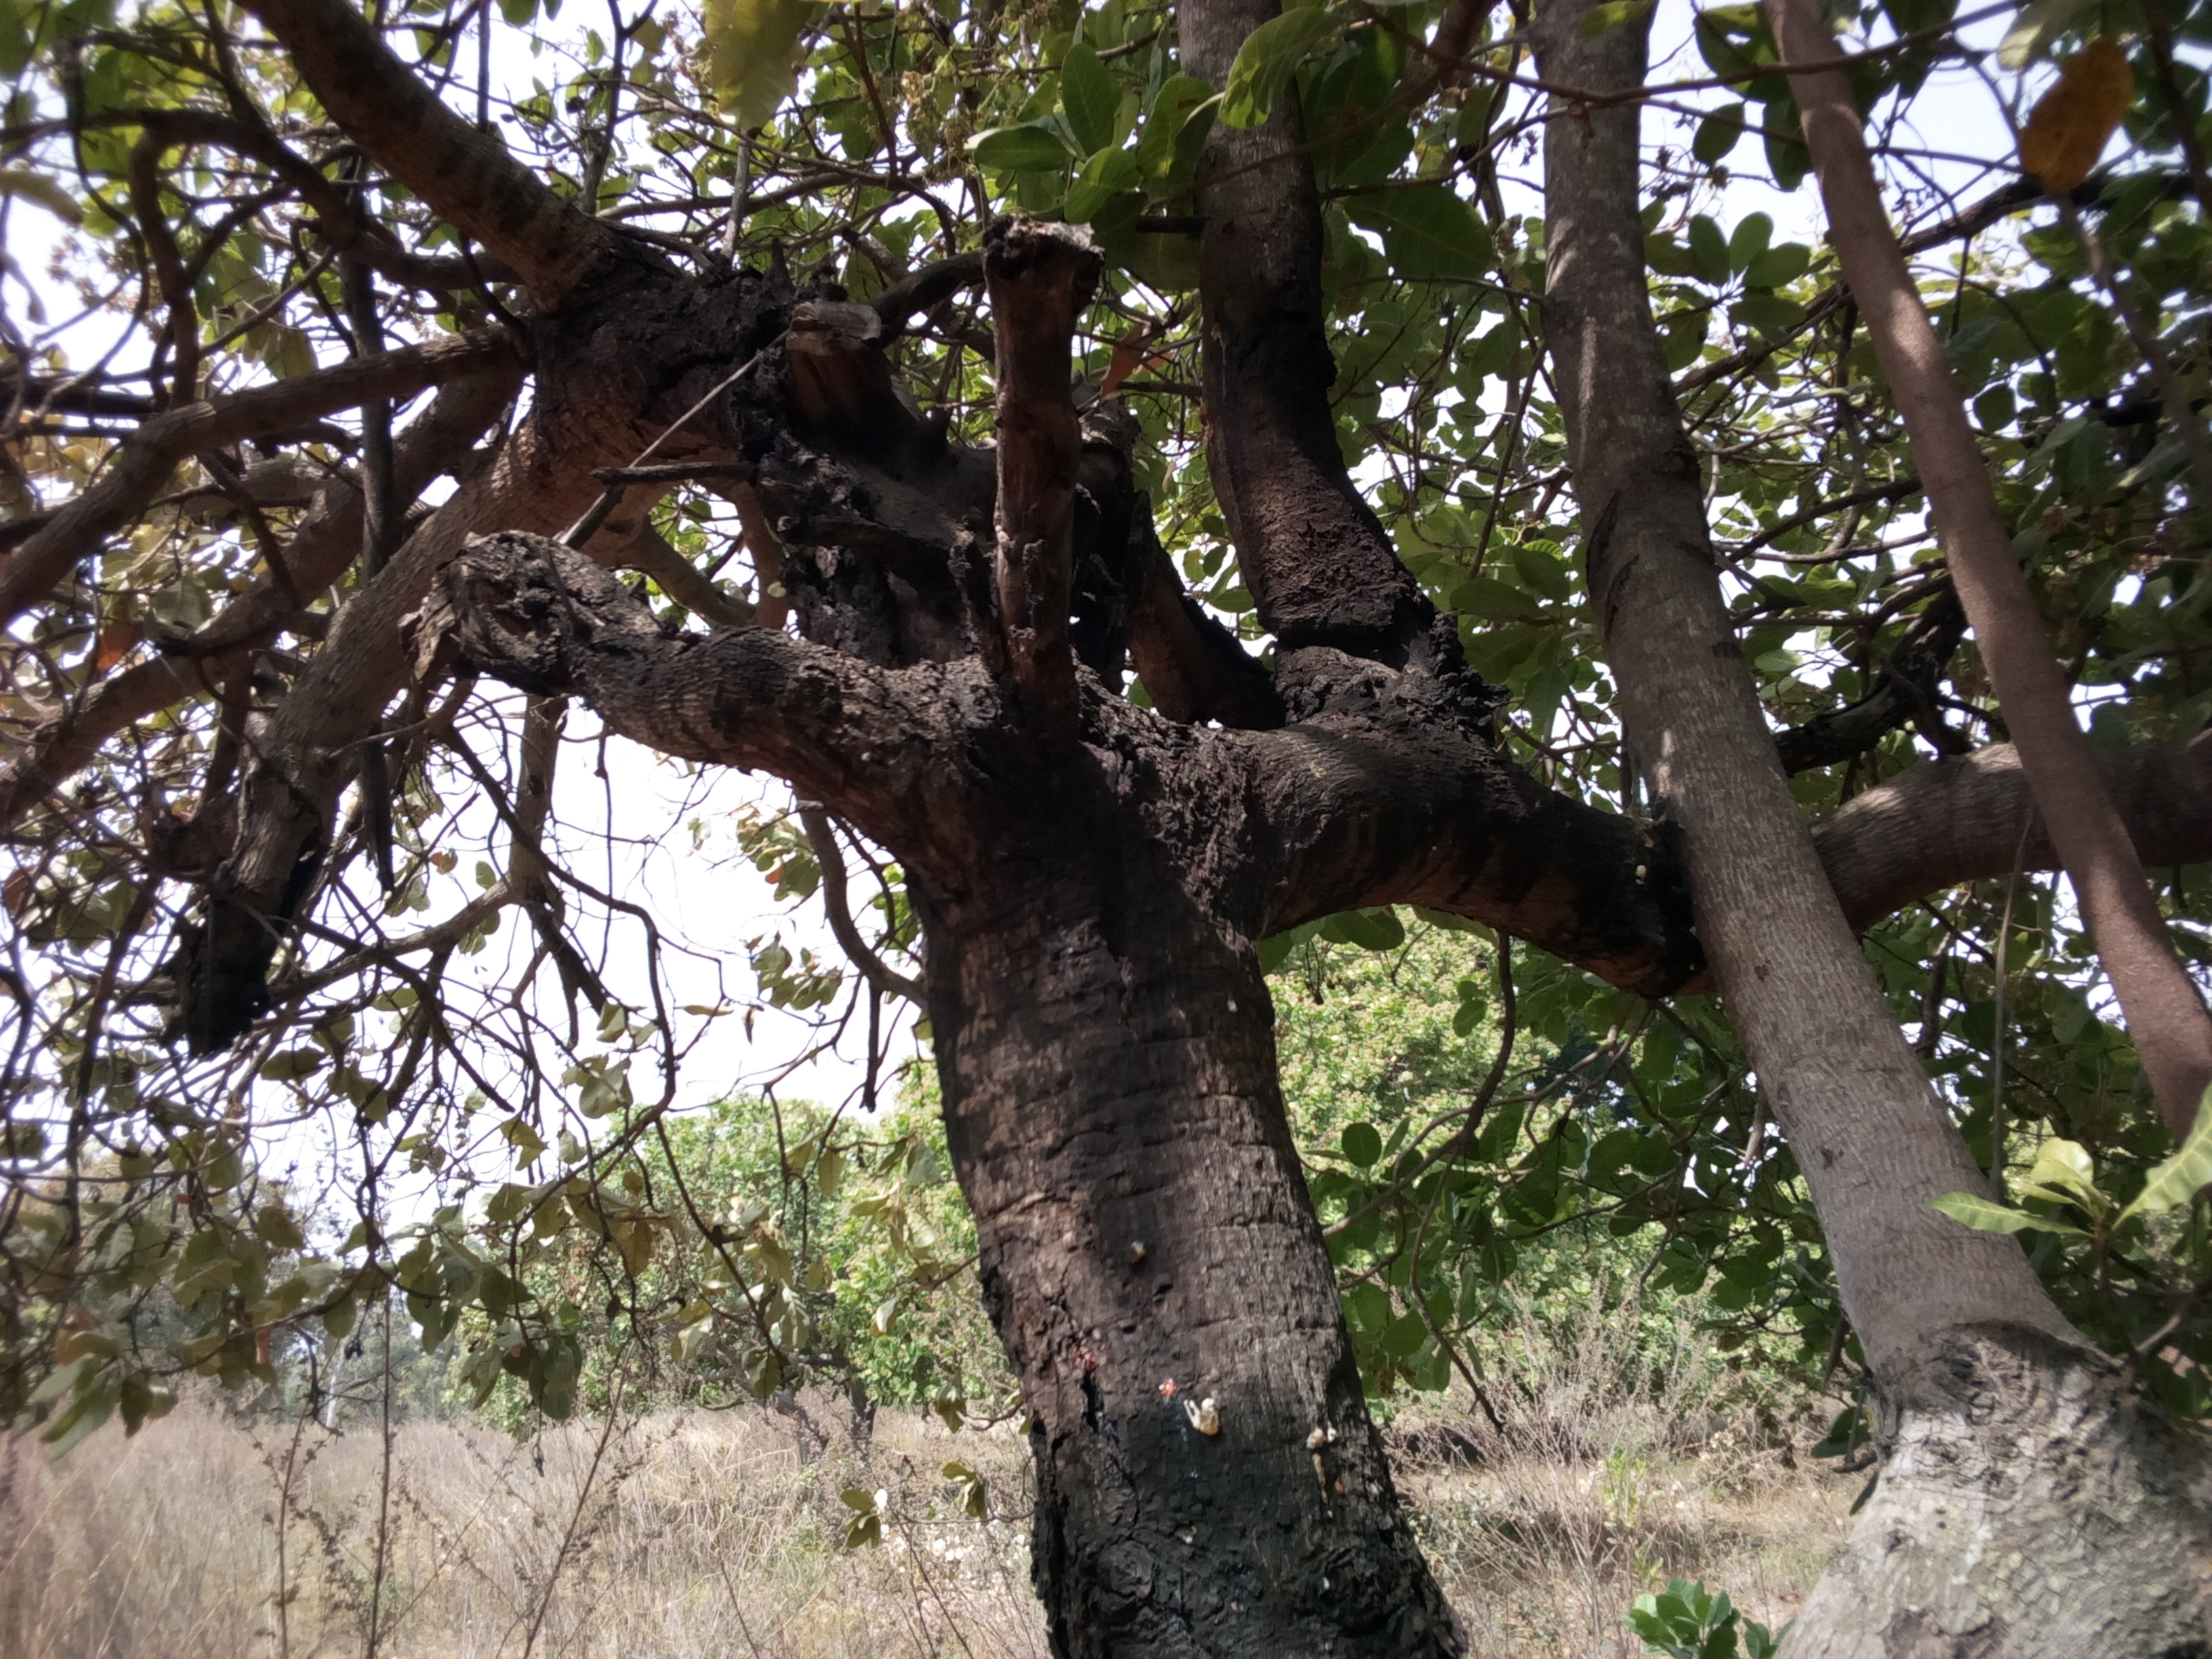Gommose: (1045, 1307, 1454, 1659)
